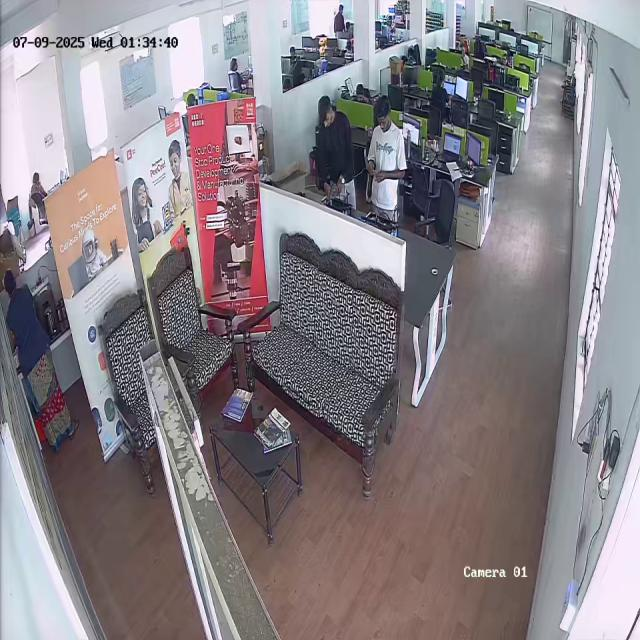person: (0, 273, 70, 452), (365, 96, 407, 219), (316, 94, 356, 209), (431, 70, 450, 115)
